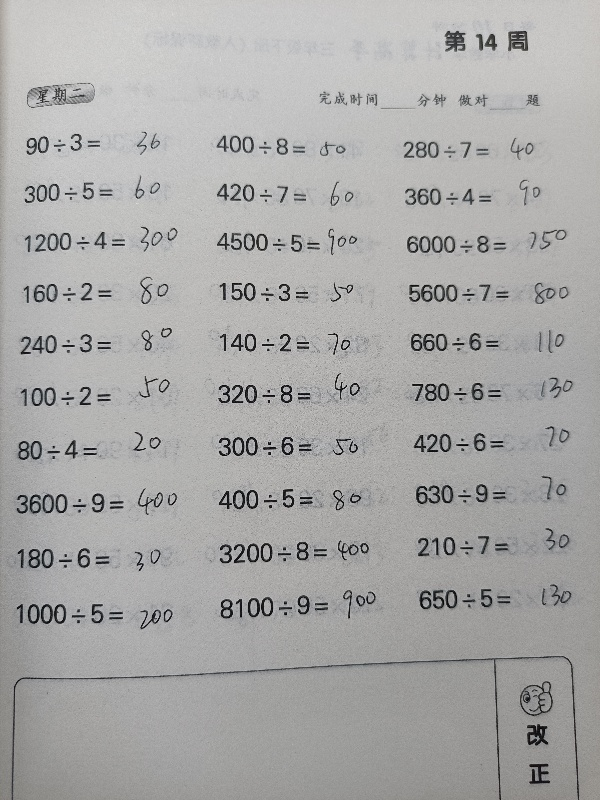equation: (209, 221, 389, 263), (8, 596, 188, 632), (211, 588, 391, 624), (10, 540, 190, 576), (210, 533, 390, 569), (7, 485, 187, 521), (209, 427, 389, 463), (409, 581, 589, 616), (209, 481, 389, 516), (9, 433, 189, 468), (11, 326, 191, 361), (408, 528, 588, 562), (406, 476, 586, 510), (404, 425, 584, 459), (11, 379, 191, 413), (210, 377, 390, 411), (212, 326, 392, 360), (402, 325, 582, 359), (211, 275, 391, 309), (14, 275, 194, 309), (15, 174, 195, 208), (403, 375, 583, 408), (400, 277, 580, 310), (398, 228, 578, 261), (15, 224, 195, 257), (208, 177, 388, 210), (208, 129, 388, 162), (17, 126, 197, 159), (397, 181, 577, 213), (395, 134, 575, 166)
